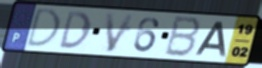6: (133, 16, 161, 53)
A: (193, 20, 228, 59)
B: (162, 14, 204, 59)
D: (24, 7, 62, 49), (57, 10, 92, 51)
V: (103, 12, 137, 54)
